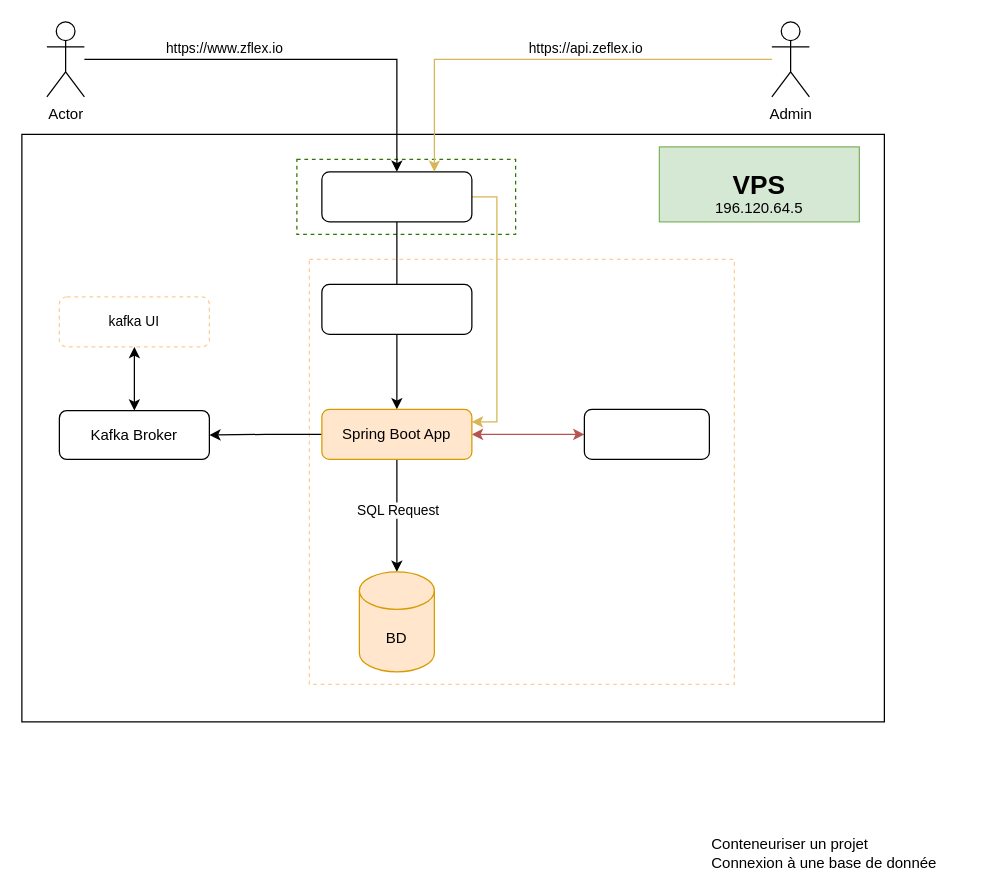
Some shapes in this 981 by 894 pixel diagram are drawn without their labels. Each missing label, with the centre of its shape:
"Caching" goes at [646,433].
"Client : SPA Js" goes at [396,308].
"Reverse Proxy" goes at [396,196].
